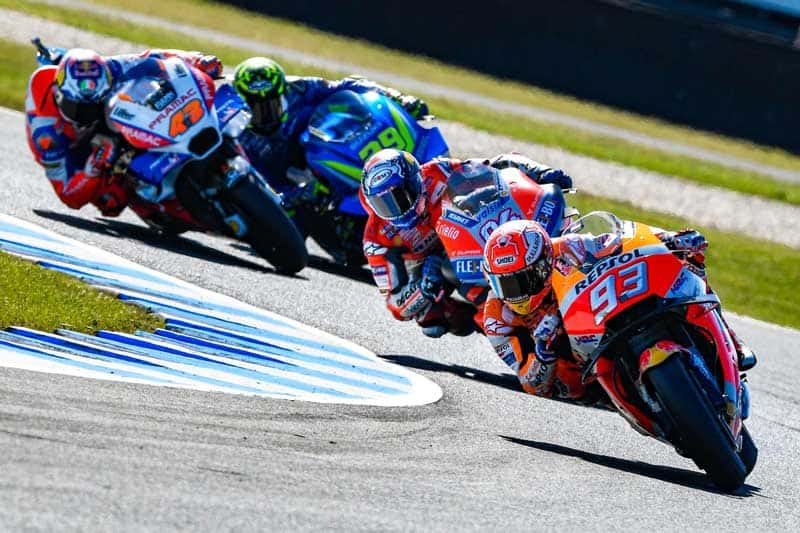helmet: (345, 141, 432, 233), (477, 209, 548, 315), (46, 42, 114, 142), (229, 47, 290, 103)
